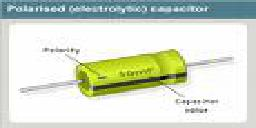Electrolytic-Capacitor: (12, 43, 243, 98)
